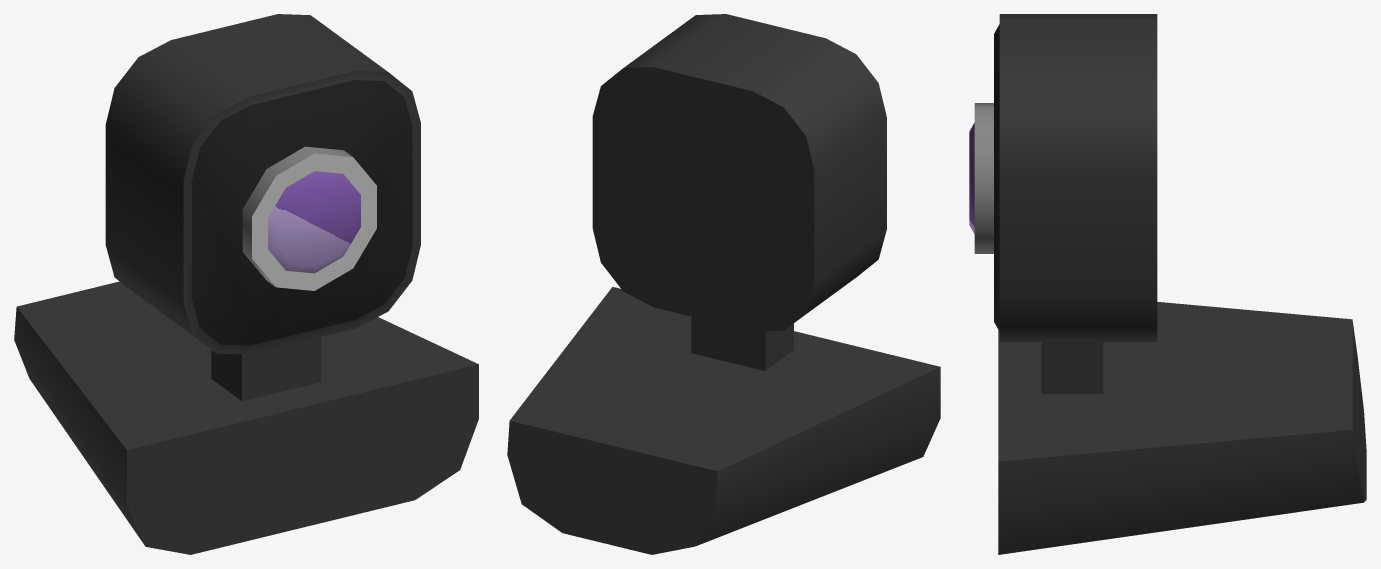
File: Web_Cam_3.obj
3 views of the same model, side by side, from view 1: azimuth 30°, elevation 25°; view 2: azimuth 150°, elevation 25°; view 3: azimuth 270°, elevation 25° (orthographic). The views are drawn at different scales.
Visible parts, largest first — view 1: Web_Cam_3; view 2: Web_Cam_3; view 3: Web_Cam_3.
Part boxes in pixels (<box>): Web_Cam_3: <box>14,14,478,554</box>; Web_Cam_3: <box>507,14,940,554</box>; Web_Cam_3: <box>969,14,1366,554</box>.
Size of the model in its own units: 0.0479 by 0.0577 by 0.0462.
